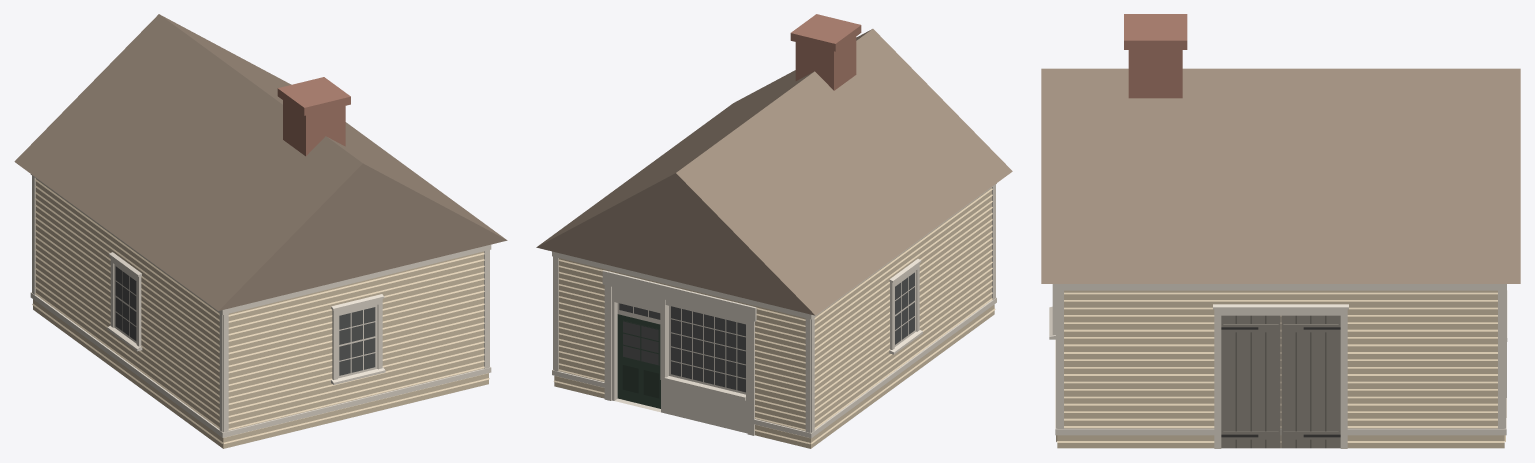
Rendered from recon_1835_core_c1_023__inferred_1835.glb.
3 views of the same model, side by side, from view 1: azimuth 30°, elevation 25°; view 2: azimuth 150°, elevation 25°; view 3: azimuth 270°, elevation 25° (orthographic). The views are drawn at different scales.
Parts seen in each view (by area): view 1: recon_1835_core_c1_023__inferred_1835; view 2: recon_1835_core_c1_023__inferred_1835; view 3: recon_1835_core_c1_023__inferred_1835.
Part boxes in pixels (x1,y1,x2,y2): recon_1835_core_c1_023__inferred_1835: (14, 14, 507, 448); recon_1835_core_c1_023__inferred_1835: (536, 14, 1012, 448); recon_1835_core_c1_023__inferred_1835: (1041, 14, 1520, 448).
Size of the model in its own units: 6.09 by 5.9 by 7.44.
